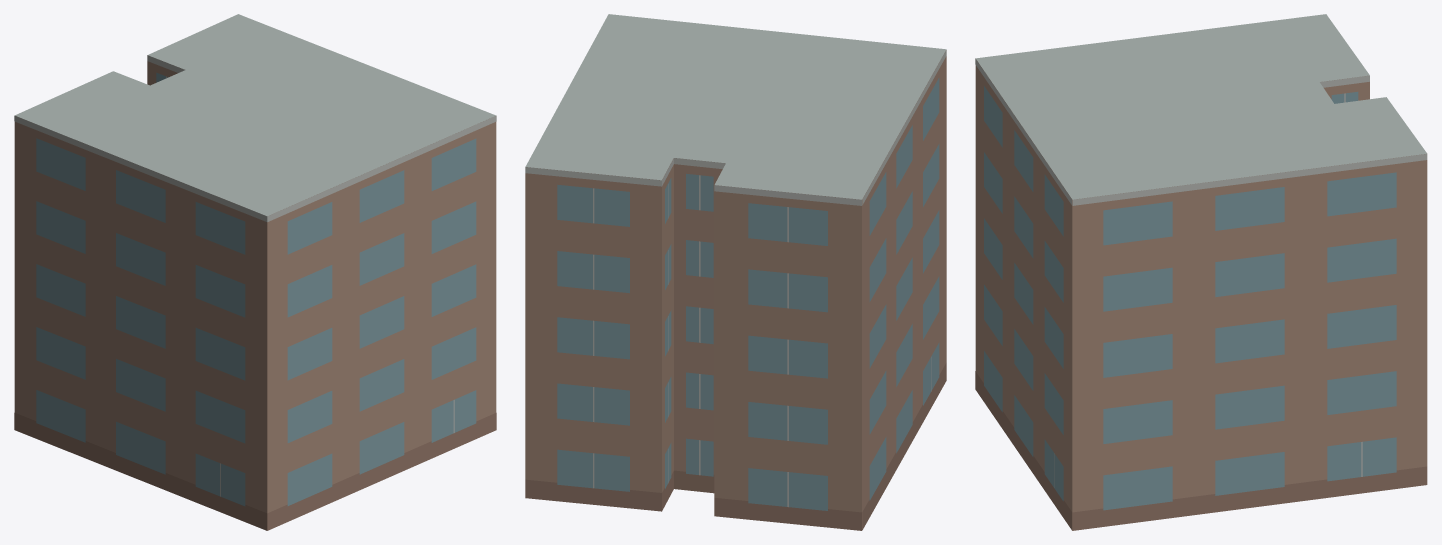
Rendered from survey-upis-32524211.glb.
3 views of the same model, side by side, from view 1: azimuth 30°, elevation 25°; view 2: azimuth 150°, elevation 25°; view 3: azimuth 270°, elevation 25° (orthographic). The views are drawn at different scales.
Parts seen in each view (by area): view 1: survey-upis-32524211.tmp; view 2: survey-upis-32524211.tmp; view 3: survey-upis-32524211.tmp.
Part boxes in pixels (x1,y1,x2,y2): survey-upis-32524211.tmp: [14, 14, 496, 530]; survey-upis-32524211.tmp: [525, 14, 946, 530]; survey-upis-32524211.tmp: [975, 14, 1427, 530].
Bounding box in the file's own units: 15.48 × 12.87 × 15.92.
